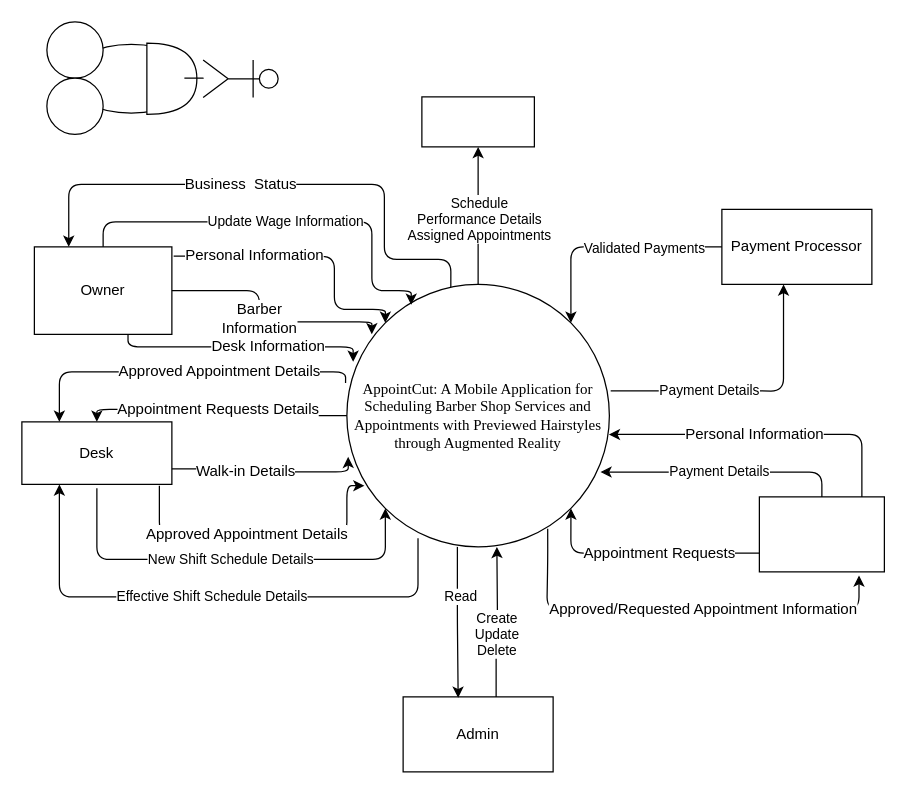
Some shapes in this 906 by 794 pixel diagram are drawn without their labels. Here are the shapes that lost their labels. From the top down, the centre of each, then its label:
At (477,121): "Barber".
At (821,534): "Customer".
